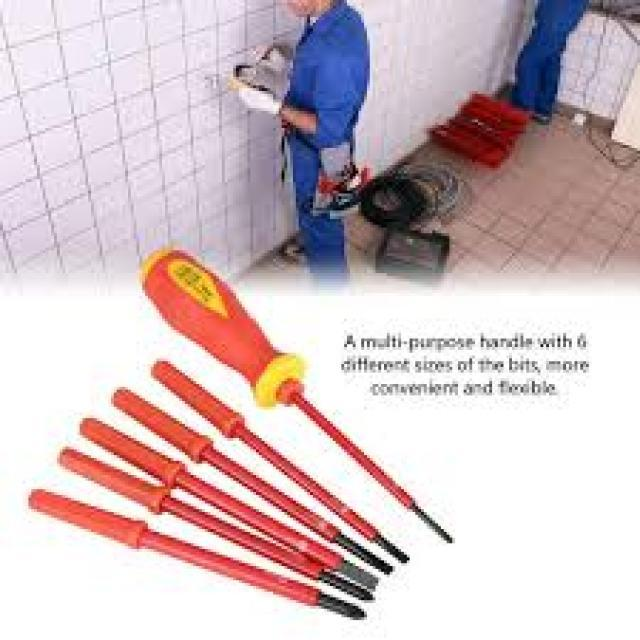screwdriver: (142, 233, 455, 552)
